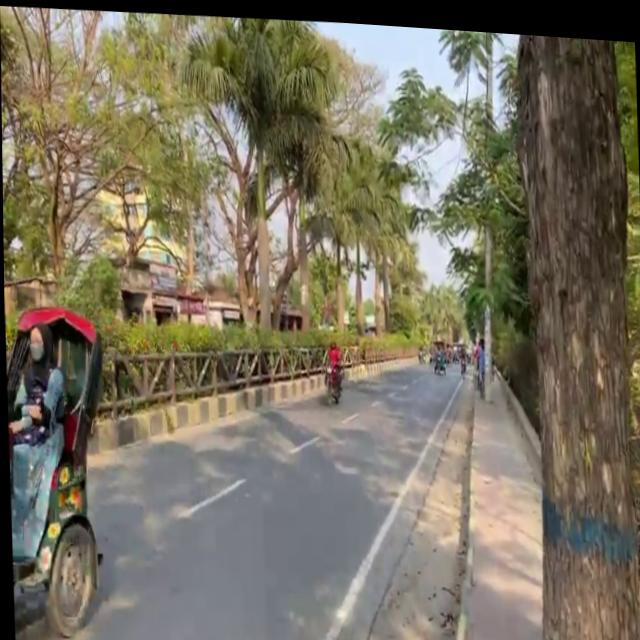Construction-barrier: (405, 350, 482, 640), (490, 349, 541, 478)
Fallen-tree: (321, 358, 343, 401), (431, 346, 445, 368), (458, 348, 465, 368), (416, 341, 424, 358)
Garbage-bin: (323, 336, 342, 393)
Pothole: (442, 343, 640, 640), (442, 345, 548, 640)
Traffic-cone: (3, 299, 109, 640)
